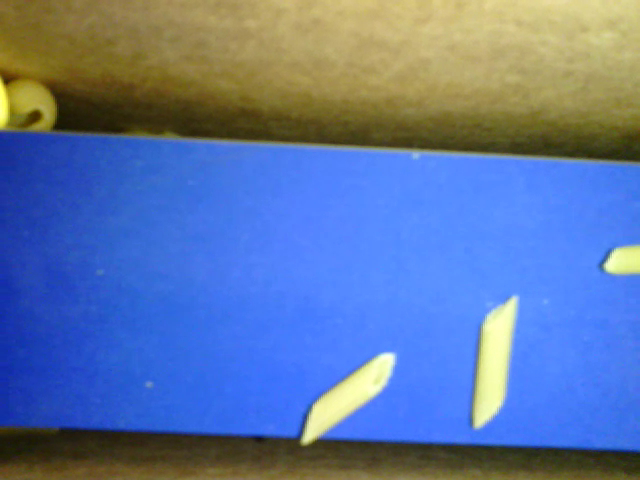penne: (300, 350, 397, 447), (472, 296, 519, 432)
shell: (3, 76, 58, 136)
